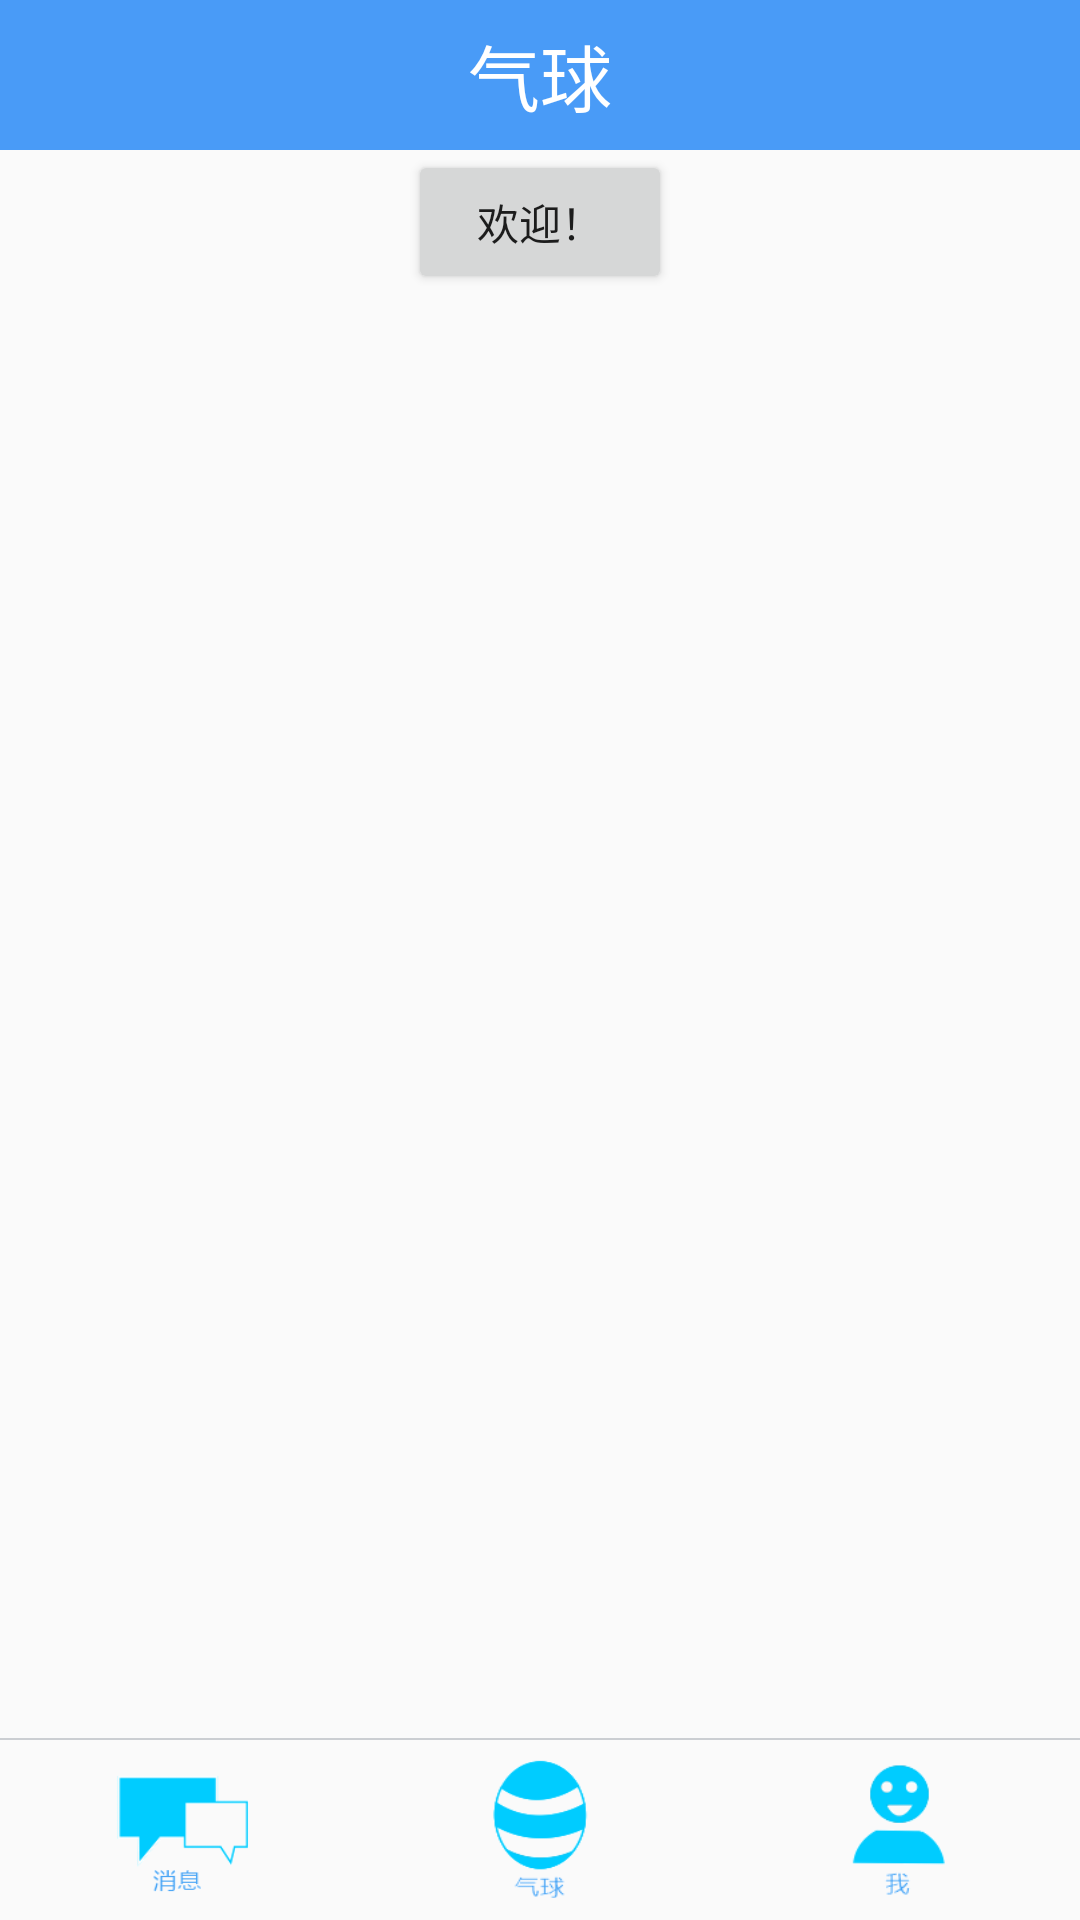

Icon bounding boxes for this 1080px x 1920px phone screenshot, format (x1, y1, x2, y2):
ball imgt: (493, 1760, 587, 1898)
contact imgt: (117, 1776, 248, 1891)
